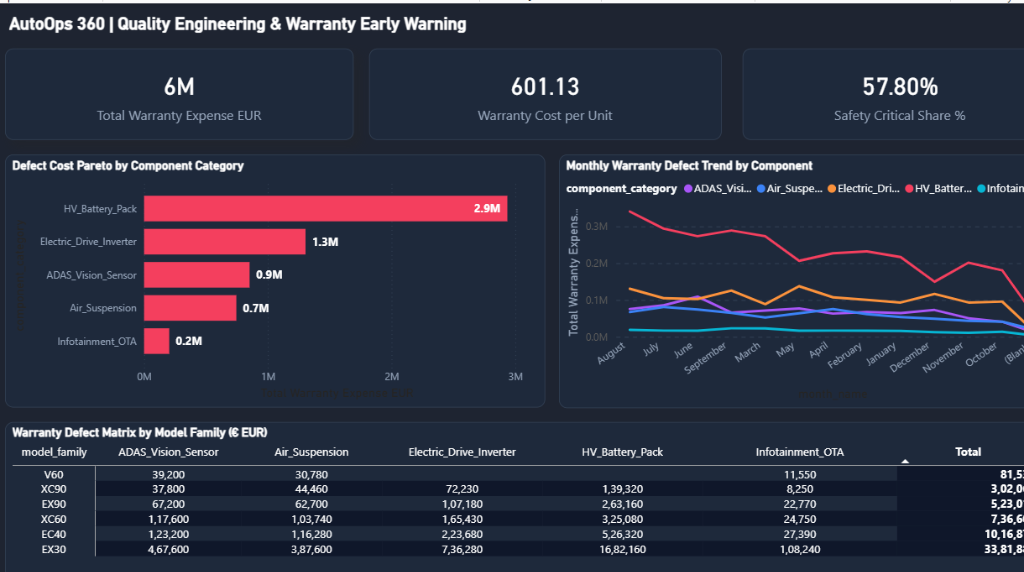

This screenshot's page, from the dashboard's own definition file:
{"tool":"powerbi","page":{"name":"Page 4","canvas":[1280,720],"ordinal":3},"visuals":[{"type":"card","fields":{"Values":["dim_dates.Total Warranty Expense EUR"]},"box":[10.1,54.1,417.3,109.4],"z":0},{"type":"card","fields":{"Values":["dim_dates.Warranty Cost per Unit"]},"box":[446.2,54.1,422.3,109.4],"z":1000},{"type":"card","fields":{"Values":["dim_dates.Safety Critical Share %"]},"box":[893.7,54.1,377.1,109.4],"z":2000},{"type":"clusteredBarChart","title":"Defect Cost Pareto by Component Category","fields":{"Category":["fct_warranty_claims.component_category"],"Y":["dim_dates.Total Warranty Expense EUR"]},"box":[10.1,181,647.3,302.9],"z":3000},{"type":"lineChart","title":"Monthly Warranty Defect Trend by Component","fields":{"Y":["dim_dates.Total Warranty Expense EUR"],"Category":["dim_dates.month_name"],"Series":["fct_warranty_claims.component_category"]},"box":[673.7,181,597.1,304.2],"z":4000},{"type":"pivotTable","title":"Warranty Defect Matrix by Model Family (€ EUR)","fields":{"Rows":["dim_vehicles.model_family"],"Columns":["fct_warranty_claims.component_category"],"Values":["dim_dates.Total Warranty Expense EUR"]},"box":[10.1,501.5,1260.8,187.3],"z":5000},{"type":"textbox","title":"AutoOps 360 | Quality Engineering & Warranty Early Warning","box":[10.1,12.6,631,28.9],"z":6000}]}

Visuals, with their boxes in screenshot pixels (x1, y1, x2, y2), scaled from the page's 1280x720 canvas onto the 1024x572 screenshot:
card - dim_dates.Total Warranty Expense EUR: <region>8, 43, 342, 130</region>
card - dim_dates.Warranty Cost per Unit: <region>357, 43, 695, 130</region>
card - dim_dates.Safety Critical Share %: <region>715, 43, 1017, 130</region>
"Defect Cost Pareto by Component Category" clusteredBarChart: <region>8, 144, 526, 384</region>
"Monthly Warranty Defect Trend by Component" lineChart: <region>539, 144, 1017, 385</region>
"Warranty Defect Matrix by Model Family (€ EUR)" pivotTable: <region>8, 398, 1017, 547</region>
"AutoOps 360 | Quality Engineering & Warranty Early Warning" textbox: <region>8, 10, 513, 33</region>
